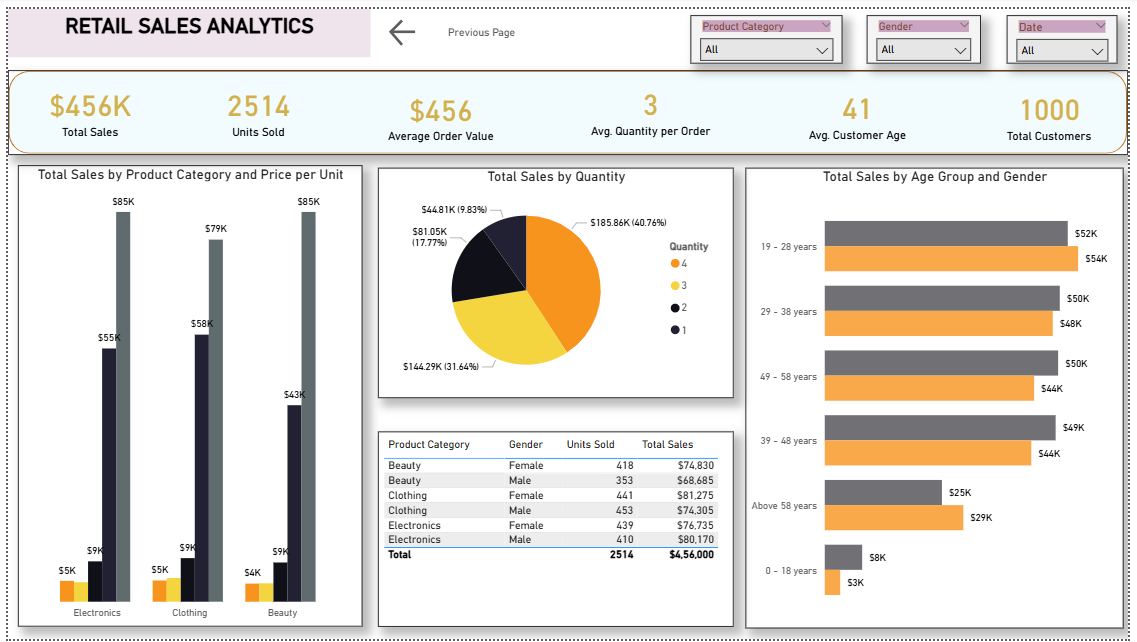

This screenshot's page, from the dashboard's own definition file:
{"tool":"powerbi","page":{"name":"Detailed_Analytics","canvas":[1280,720],"ordinal":1},"visuals":[{"type":"shape","box":[0,70,1280,96.5],"z":0},{"type":"textbox","box":[0,0,414.5,55],"z":1000},{"type":"card","fields":{"Values":["Measures Table.Total Sales"]},"box":[10.9,68.8,165.3,95.3],"z":2000},{"type":"card","fields":{"Values":["Measures Table.Total Customers"]},"box":[1103.9,72.4,171.3,95.3],"z":3000},{"type":"card","fields":{"Values":["Measures Table.AOV"]},"box":[386.1,72.4,218.4,96.5],"z":4000},{"type":"slicer","fields":{"Values":["Retail_sales.Date.Variation.Date Hierarchy.Year","Retail_sales.Date.Variation.Date Hierarchy.Quarter","Retail_sales.Date.Variation.Date Hierarchy.Month","Retail_sales.Date.Variation.Date Hierarchy.Day"]},"box":[1141.3,7.2,126.7,55.5],"z":5000},{"type":"slicer","fields":{"Values":["Retail_sales.Product Category"]},"box":[780.6,7.2,173.7,55.5],"z":6000},{"type":"card","fields":{"Values":["Measures Table.Avg. Quantity per Transaction"]},"box":[640.6,66.4,189.4,97.7],"z":7000},{"type":"card","fields":{"Values":["Measures Table.Average Age"]},"box":[867.4,71.2,207.5,95.3],"z":8000},{"type":"clusteredBarChart","fields":{"Category":["Retail_sales.Age Group"],"Y":["Measures Table.Total Sales"],"Series":["Retail_sales.Gender"]},"box":[843.3,181,431.9,526],"z":9000},{"type":"clusteredColumnChart","fields":{"Category":["Retail_sales.Product Category"],"Y":["Measures Table.Total Sales"],"Series":["Retail_sales.Price per Unit"]},"box":[10.9,178.6,393.3,527.2],"z":10000},{"type":"actionButton","box":[431.9,7.2,152,39.8],"z":11000},{"type":"slicer","fields":{"Values":["Retail_sales.Gender"]},"box":[982,7.2,130.3,55.5],"z":12000},{"type":"tableEx","fields":{"Values":["Retail_sales.Product Category","Retail_sales.Gender","Measures Table.Total Quantity","Measures Table.Total Sales"]},"box":[423.5,482.6,406.6,223.2],"z":13000},{"type":"card","fields":{"Values":["Measures Table.Total Quantity"]},"box":[216,68.8,141.2,95.3],"z":14000},{"type":"pieChart","fields":{"Category":["Retail_sales.Quantity"],"Y":["Measures Table.Total Sales"]},"box":[423.5,181,406.6,263],"z":15000}]}

Visuals, with their boxes in screenshot pixels (x1, y1, x2, y2), scaled from the page's 1280x720 canvas onto the 1137x642 screenshot:
shape: BBox(0, 62, 1136, 148)
textbox: BBox(0, 0, 368, 49)
card - Measures Table.Total Sales: BBox(10, 61, 157, 146)
card - Measures Table.Total Customers: BBox(981, 65, 1133, 150)
card - Measures Table.AOV: BBox(343, 65, 537, 151)
slicer - Retail_sales.Date.Variation.Date Hierarchy.Year x Retail_sales.Date.Variation.Date Hierarchy.Quarter: BBox(1014, 6, 1126, 56)
slicer - Retail_sales.Product Category: BBox(693, 6, 848, 56)
card - Measures Table.Avg. Quantity per Transaction: BBox(569, 59, 737, 146)
card - Measures Table.Average Age: BBox(770, 63, 955, 148)
clusteredBarChart - Retail_sales.Age Group x Measures Table.Total Sales: BBox(749, 161, 1133, 630)
clusteredColumnChart - Retail_sales.Product Category x Measures Table.Total Sales: BBox(10, 159, 359, 629)
actionButton: BBox(384, 6, 519, 42)
slicer - Retail_sales.Gender: BBox(872, 6, 988, 56)
tableEx - Retail_sales.Product Category x Retail_sales.Gender: BBox(376, 430, 737, 629)
card - Measures Table.Total Quantity: BBox(192, 61, 317, 146)
pieChart - Retail_sales.Quantity x Measures Table.Total Sales: BBox(376, 161, 737, 396)
